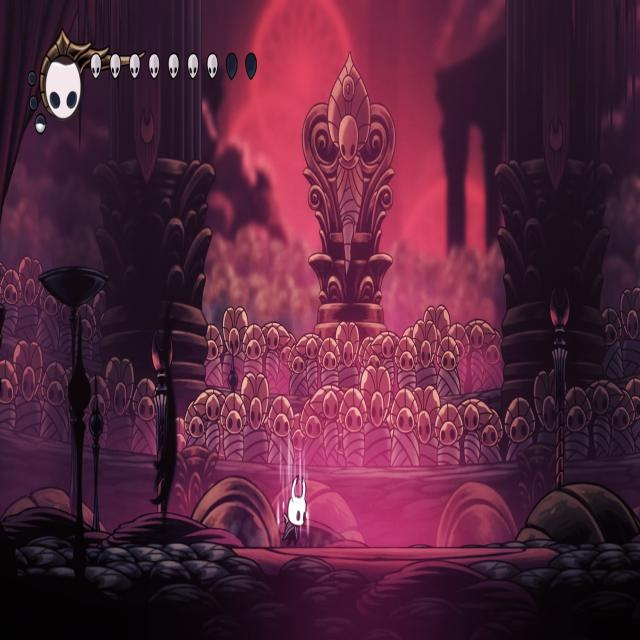Player: (278, 466, 310, 553)
